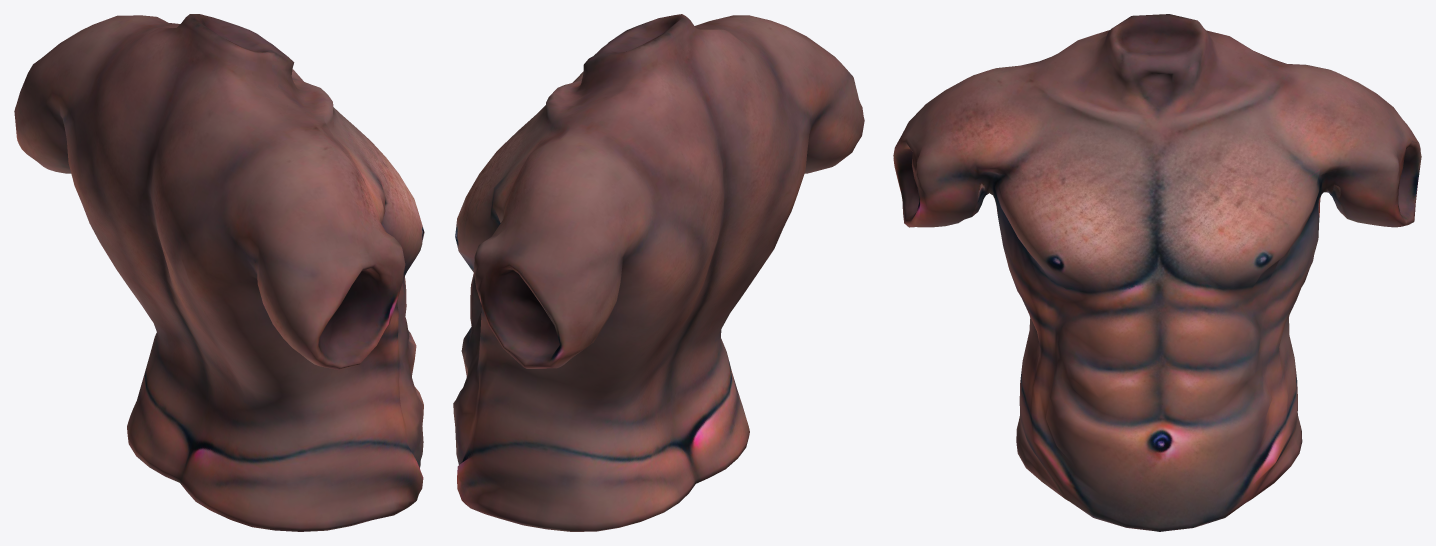
The model's file is chest_and_belly_min.glb.
The picture shows the model from 3 angles, left to right: view 1: azimuth 30°, elevation 25°; view 2: azimuth 150°, elevation 25°; view 3: azimuth 270°, elevation 25°; orthographic projection. The views are drawn at different scales.
Visible parts, largest first — view 1: mesh; view 2: mesh; view 3: mesh.
Part boxes in pixels (x1,y1,x2,y2): mesh: (14, 14, 424, 531); mesh: (453, 14, 864, 531); mesh: (893, 14, 1421, 531).
Bounding box in the file's own units: 0.5089 × 0.9179 × 0.9983.
1 material, 1 textured.
